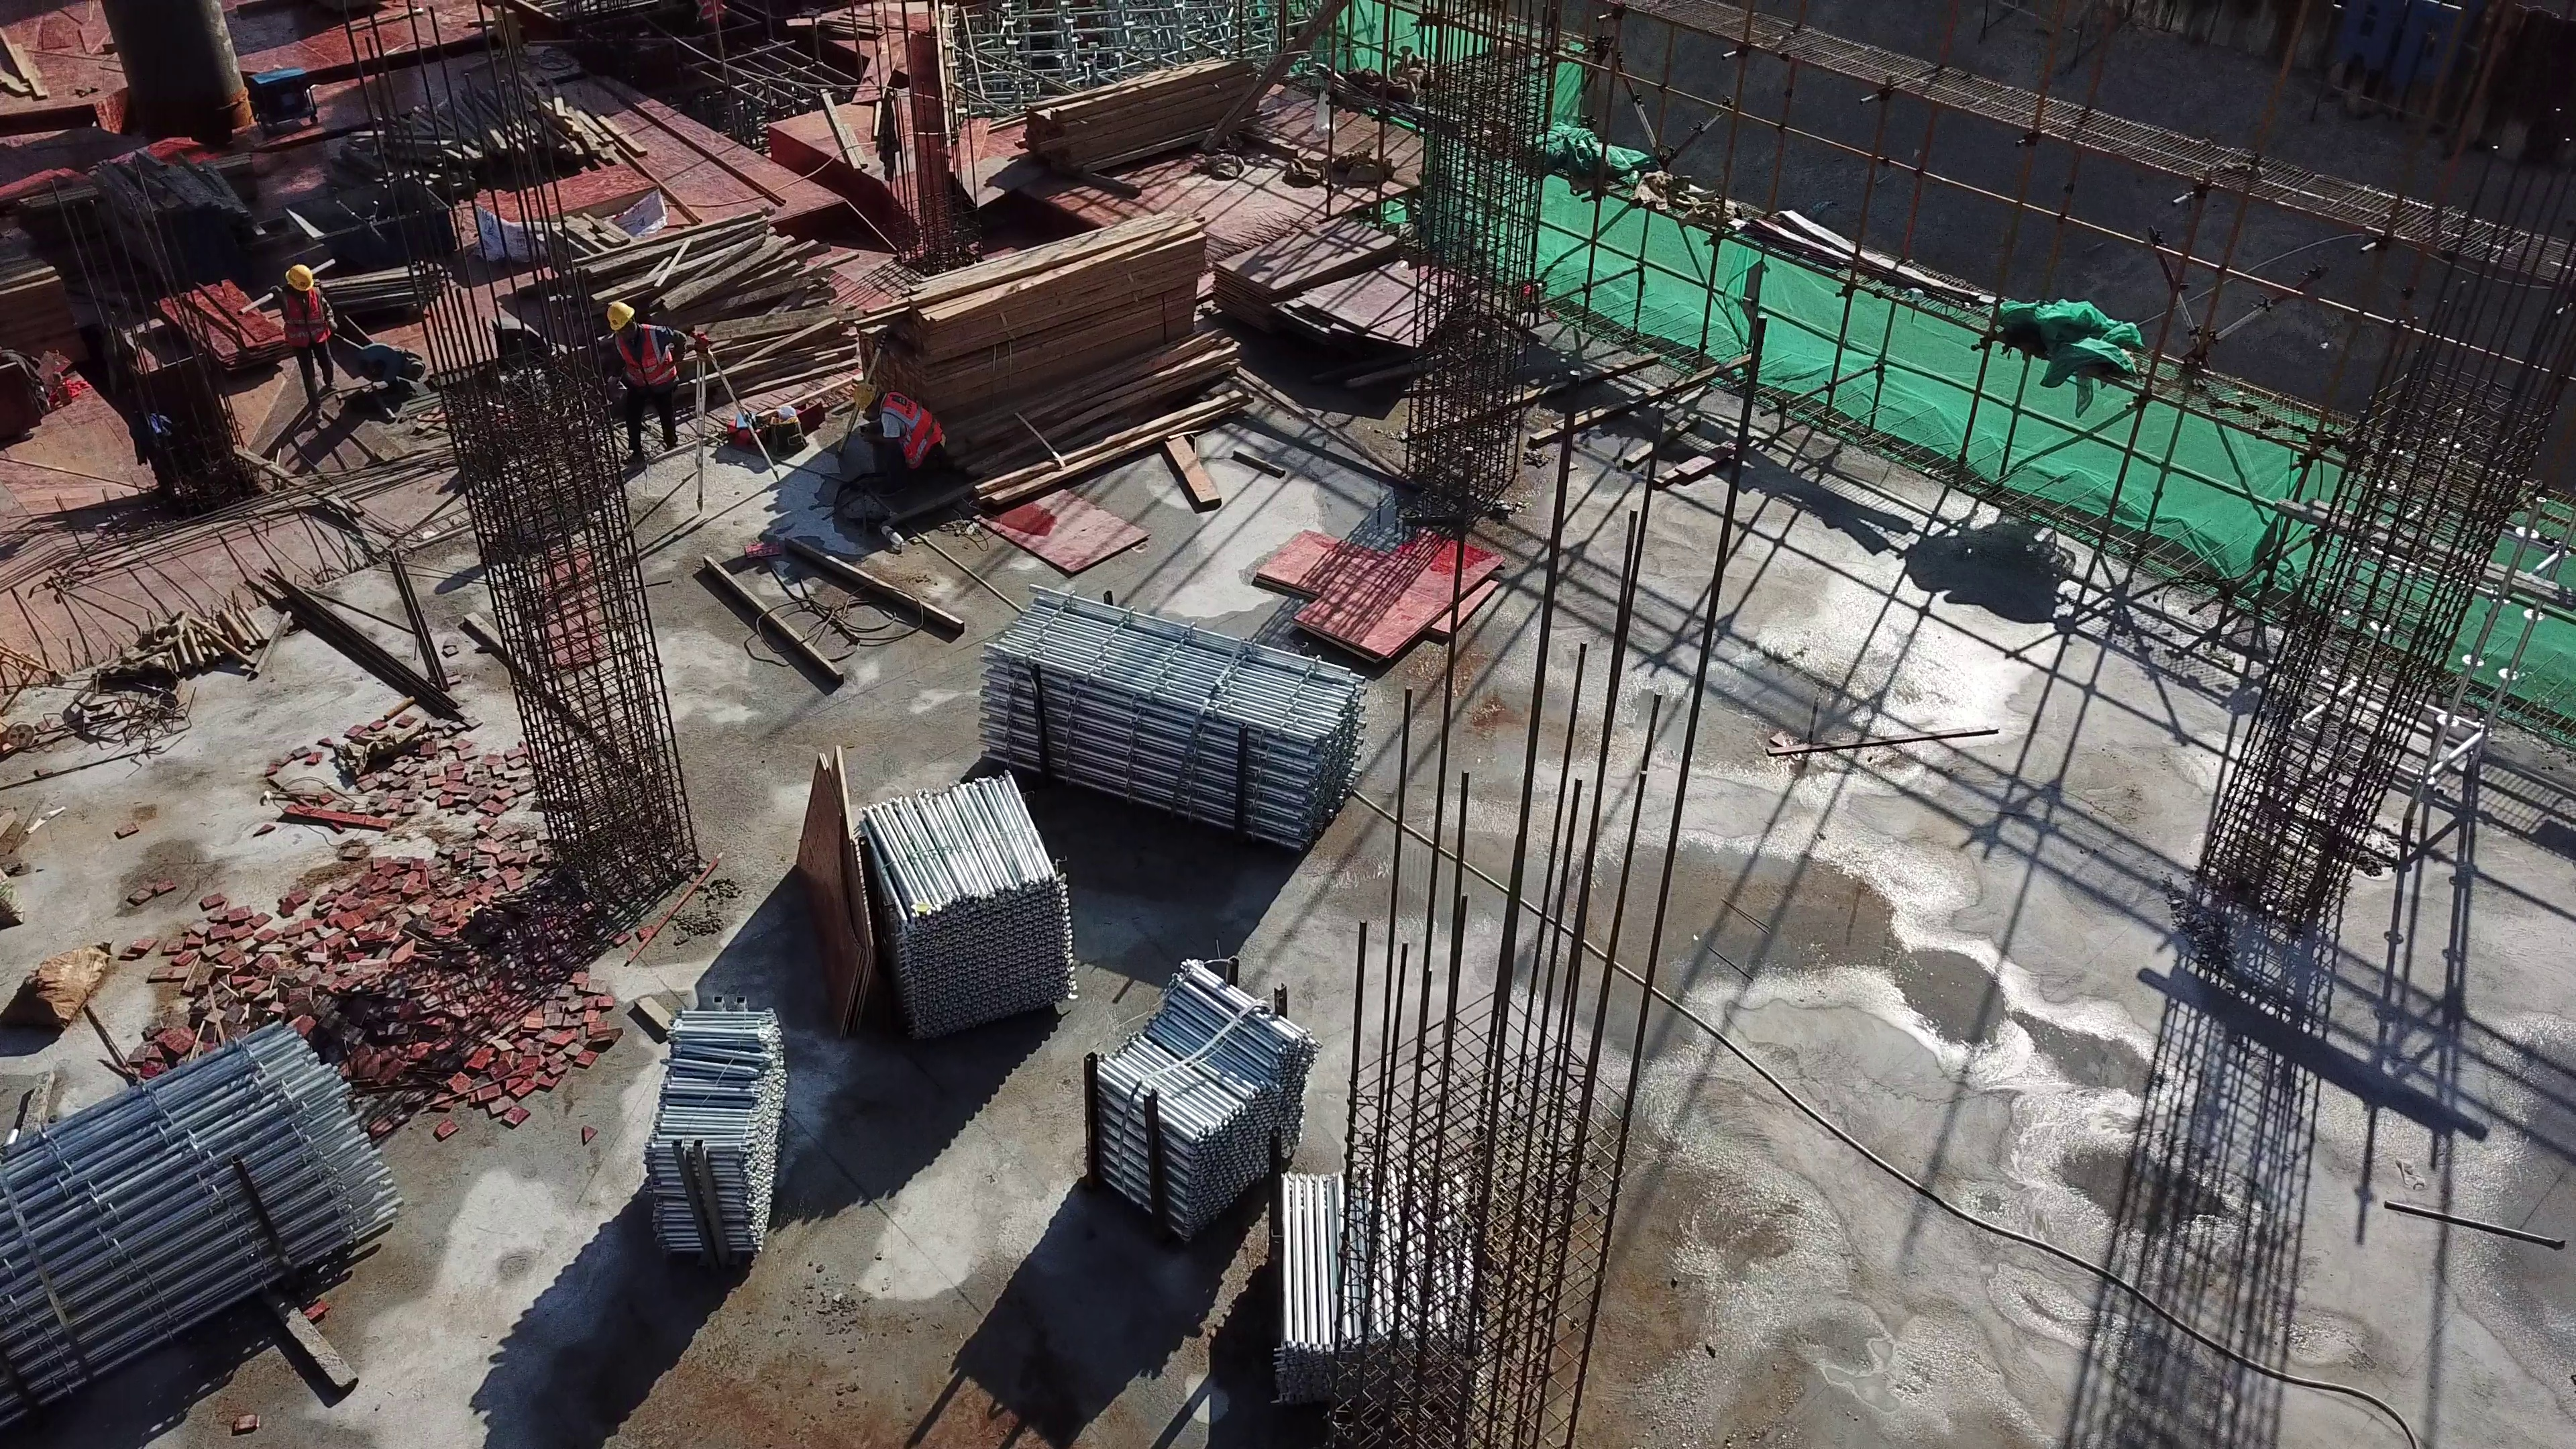board: (473, 166, 645, 234)
cutter: (346, 333, 429, 400)
ebox: (494, 3, 528, 61)
helmet: (284, 264, 312, 291), (608, 301, 634, 329), (853, 385, 876, 409)
hopper: (301, 186, 454, 266)
person: (610, 297, 688, 466), (844, 380, 945, 501), (272, 262, 349, 416), (700, 1, 728, 31)
scaffold: (3, 1009, 394, 1433), (973, 580, 1360, 850), (857, 772, 1081, 1032), (1092, 957, 1297, 1224), (1270, 1154, 1468, 1393), (647, 996, 783, 1252)
vest: (885, 391, 940, 466), (613, 329, 678, 389), (284, 284, 332, 348), (706, 1, 720, 23)
wood: (880, 216, 1228, 391), (1028, 60, 1252, 178), (146, 161, 265, 278), (5, 245, 60, 329)
